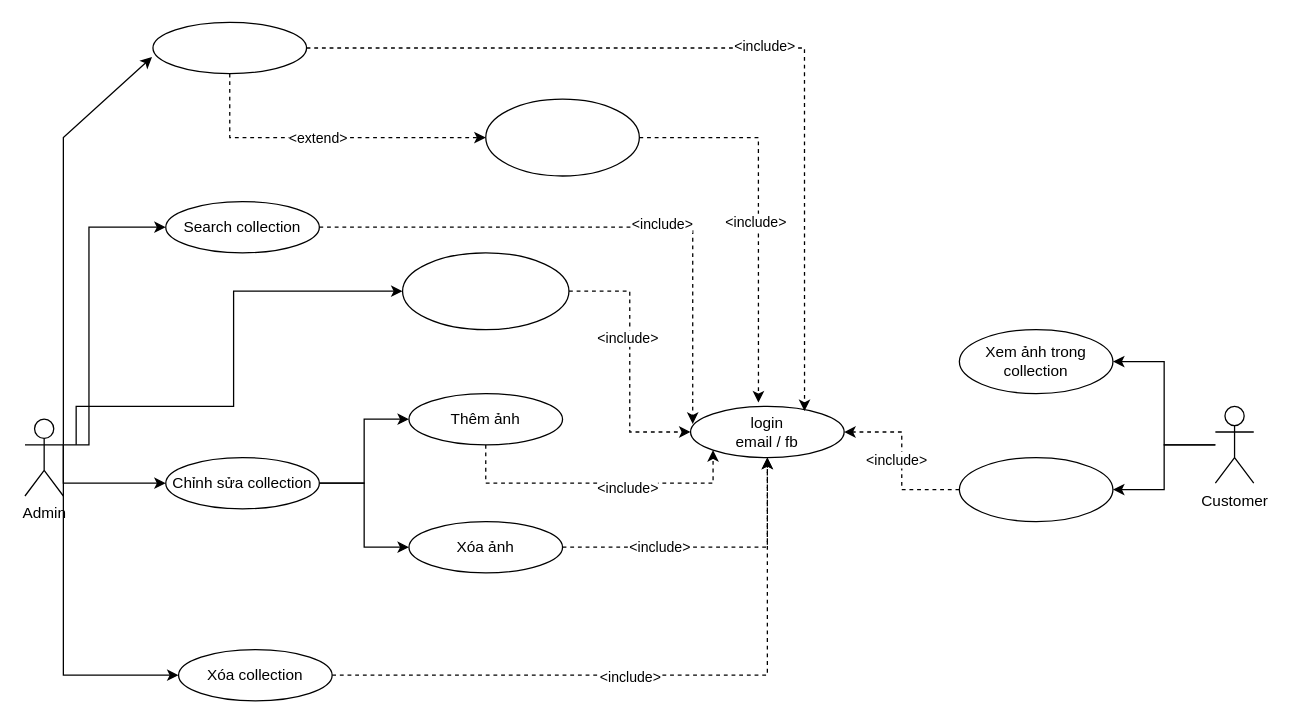
This 1289x723 diagram has some shape labels left out. Here are the shapes that lost their labels. From the top down, the centre of each, then its label:
point 229,47: Tạo collection
point 561,137: Tải thư mục ảnh lên
point 485,291: Lọc ảnh mà khách hàng đã chọn
point 1035,489: Tiến hành chọn ảnh
